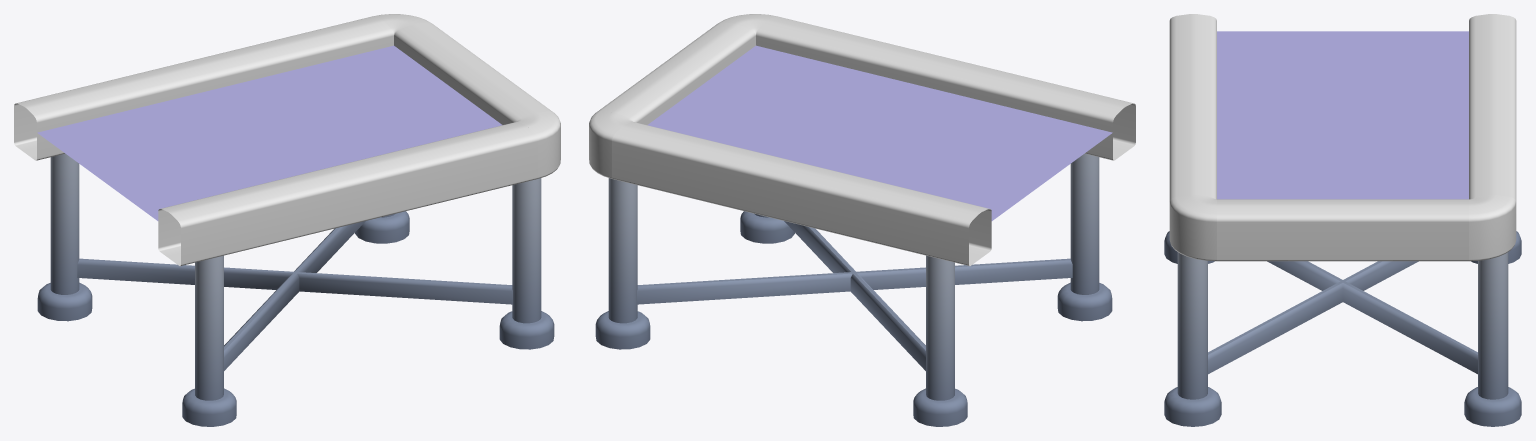
The model's file is Rail_LineHead.fbx.
The picture shows the model from 3 angles, left to right: view 1: azimuth 30°, elevation 25°; view 2: azimuth 150°, elevation 25°; view 3: azimuth 270°, elevation 25°; orthographic projection. The views are drawn at different scales.
Parts seen in each view (by area): view 1: Rail_LineHead; view 2: Rail_LineHead; view 3: Rail_LineHead.
Part boxes in pixels (x1=…): Rail_LineHead: x1=14, y1=14, x2=560, y2=426; Rail_LineHead: x1=589, y1=14, x2=1135, y2=426; Rail_LineHead: x1=1164, y1=14, x2=1521, y2=426.
Size of the model in its own units: 100 by 51 by 75.12.
